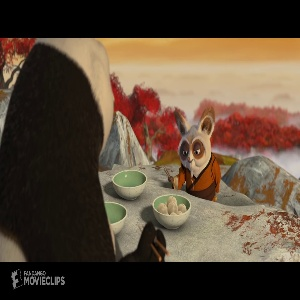po: (4, 38, 170, 260)
shifu: (163, 105, 222, 202)
